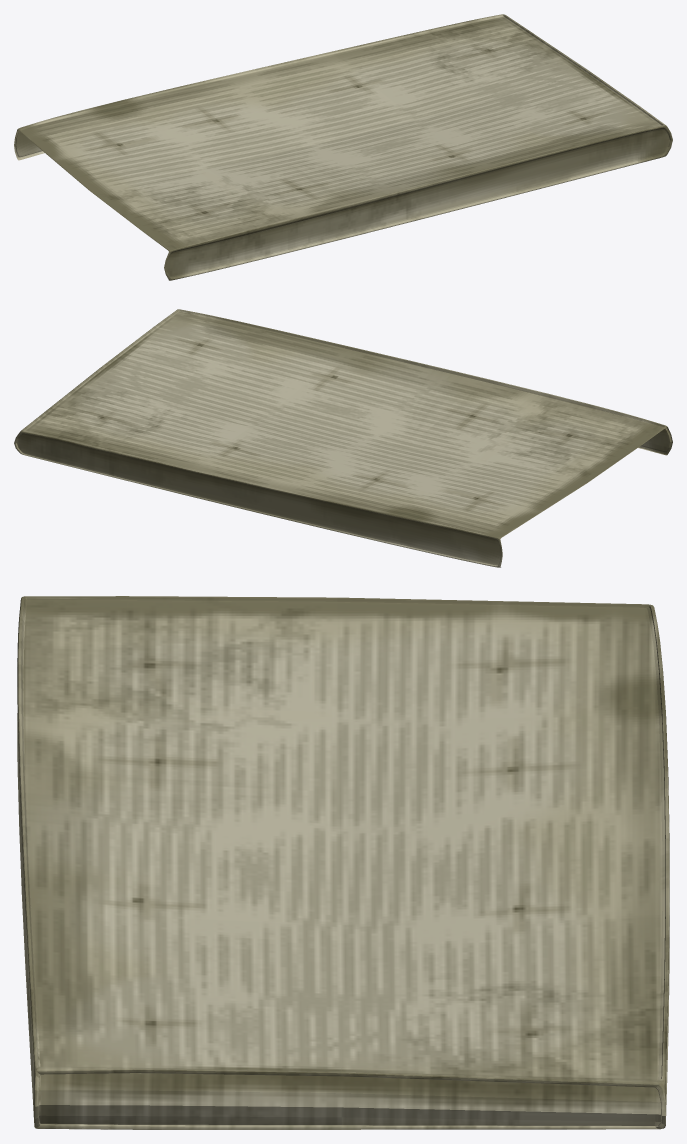
The model's file is Mattress_01.fbx.
The picture shows the model from 3 angles, top to bottom: view 1: azimuth 30°, elevation 25°; view 2: azimuth 150°, elevation 25°; view 3: azimuth 270°, elevation 25°; orthographic projection. The views are drawn at different scales.
Parts seen in each view (by area): view 1: Mattress_01; view 2: Mattress_01; view 3: Mattress_01.
Boxes of the visible parts, x1,y1,x2,y2 form: Mattress_01: (14,14,672,280); Mattress_01: (14,309,672,567); Mattress_01: (17,596,669,1129).
Bounding box in the file's own units: 23.21 × 1.45 × 13.17.
